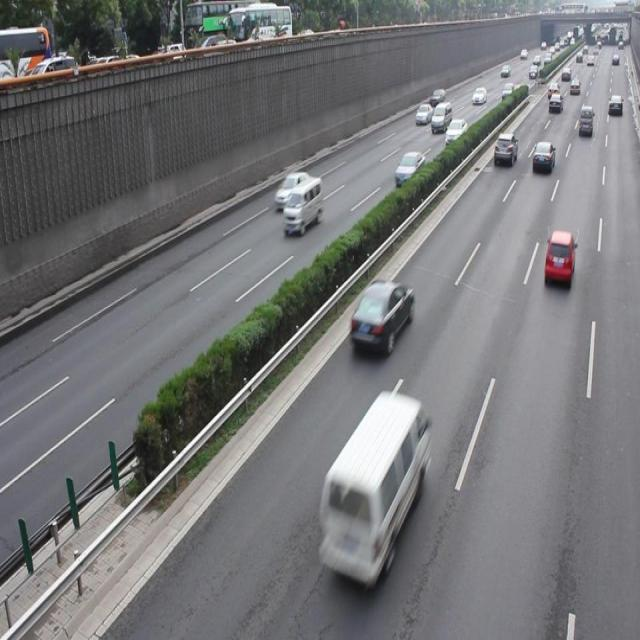car: (348, 277, 413, 354), (543, 229, 574, 283), (273, 170, 312, 207), (394, 149, 424, 185), (531, 140, 554, 172)
truck: (317, 389, 428, 586), (283, 176, 322, 232)
